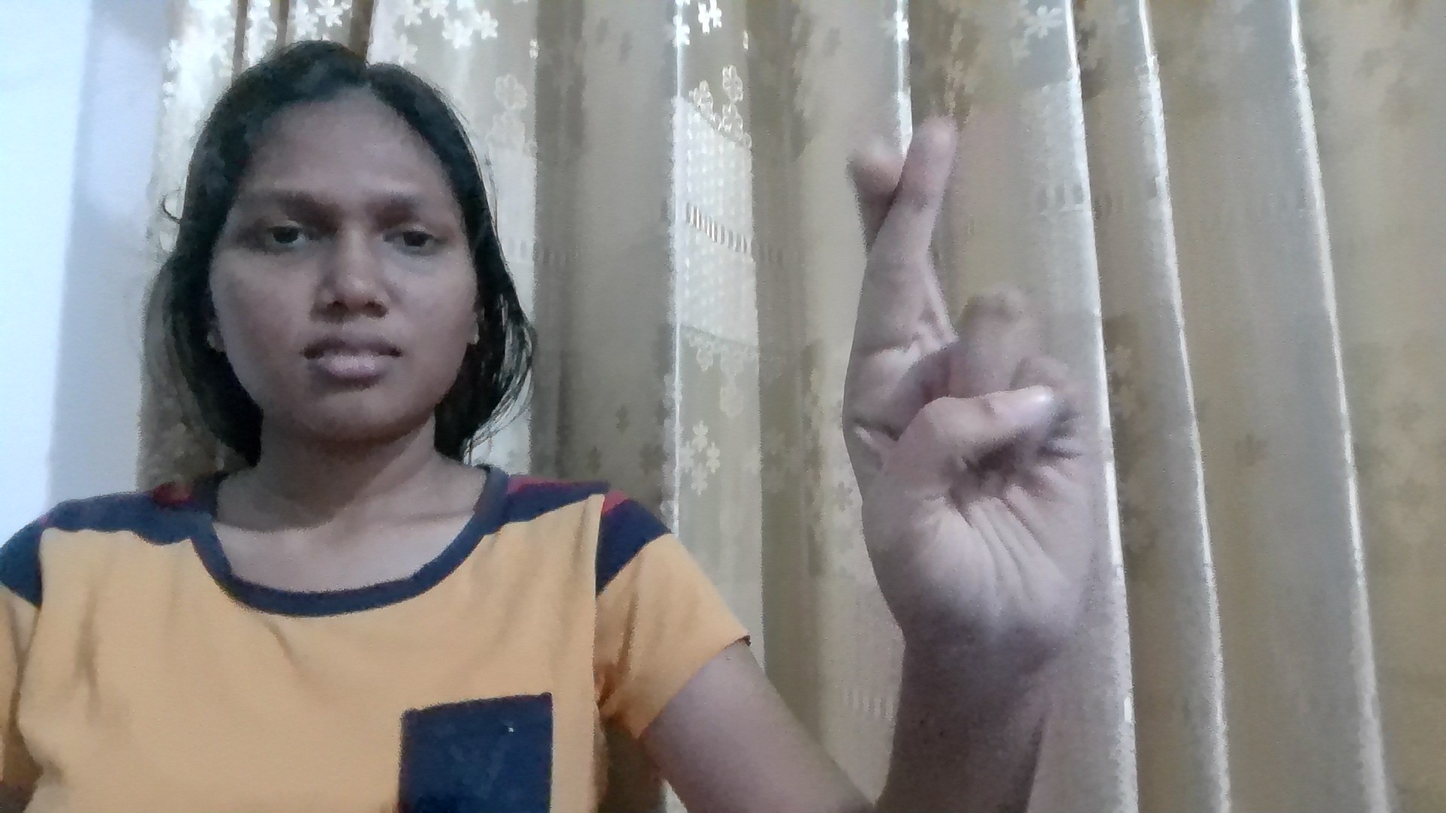Good_Luck: (810, 36, 1152, 680)
